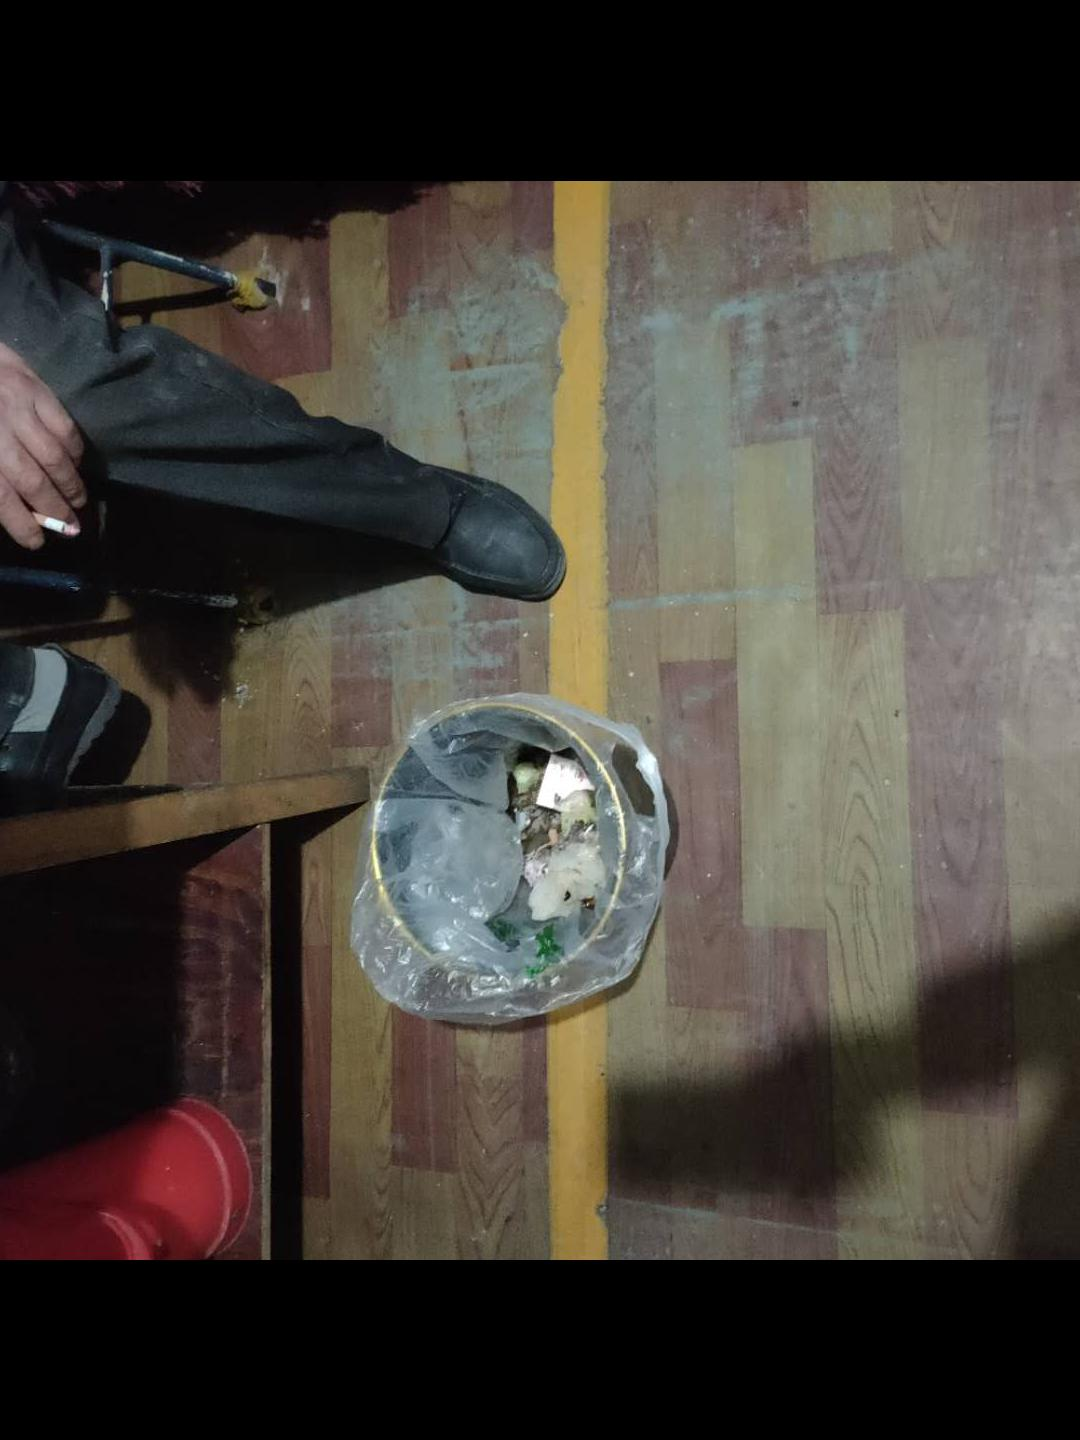Cigarette: (32, 513, 77, 532)
